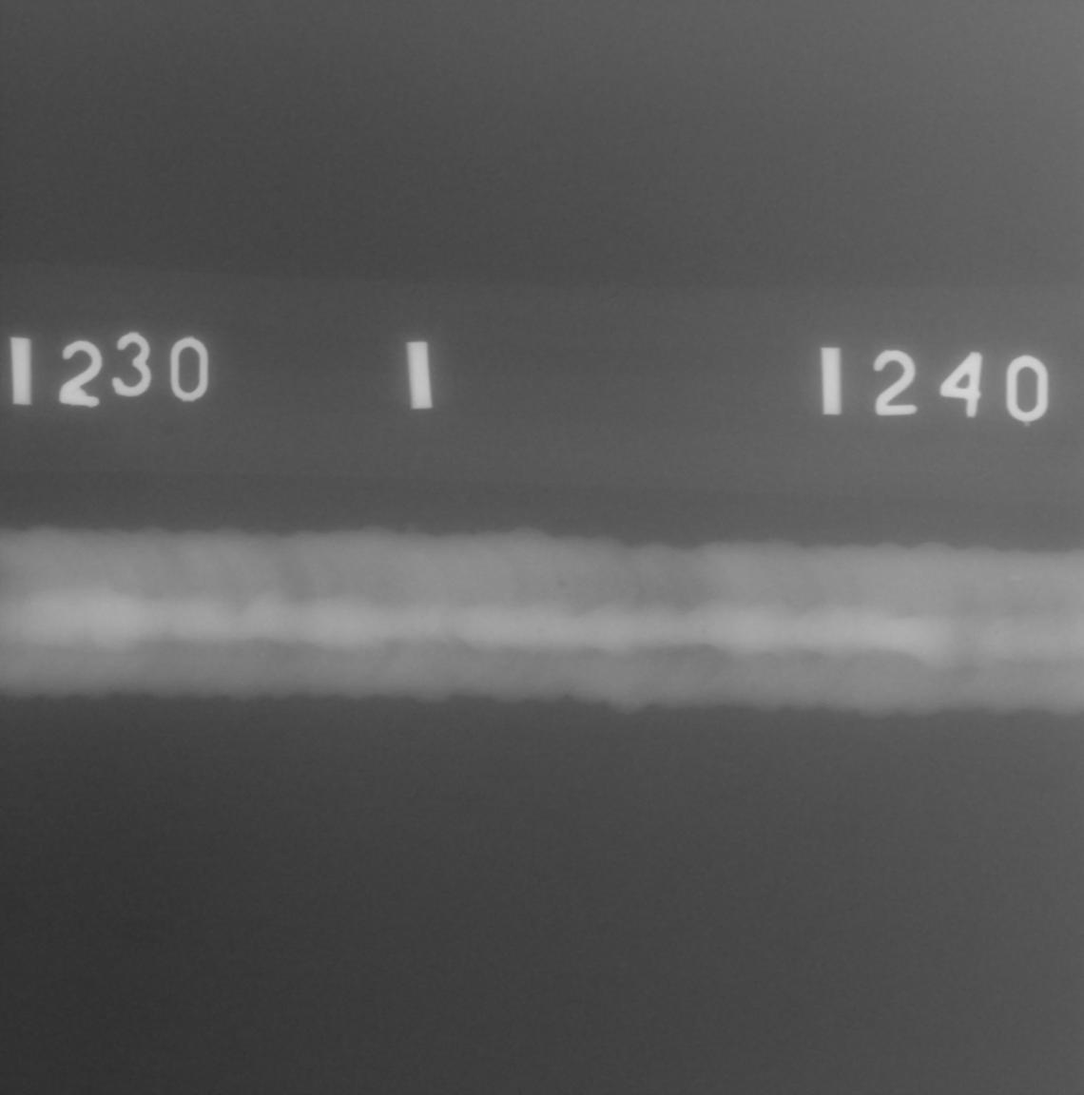Pore/Porosity: (559, 580, 567, 587), (538, 627, 545, 633), (993, 630, 999, 634)
